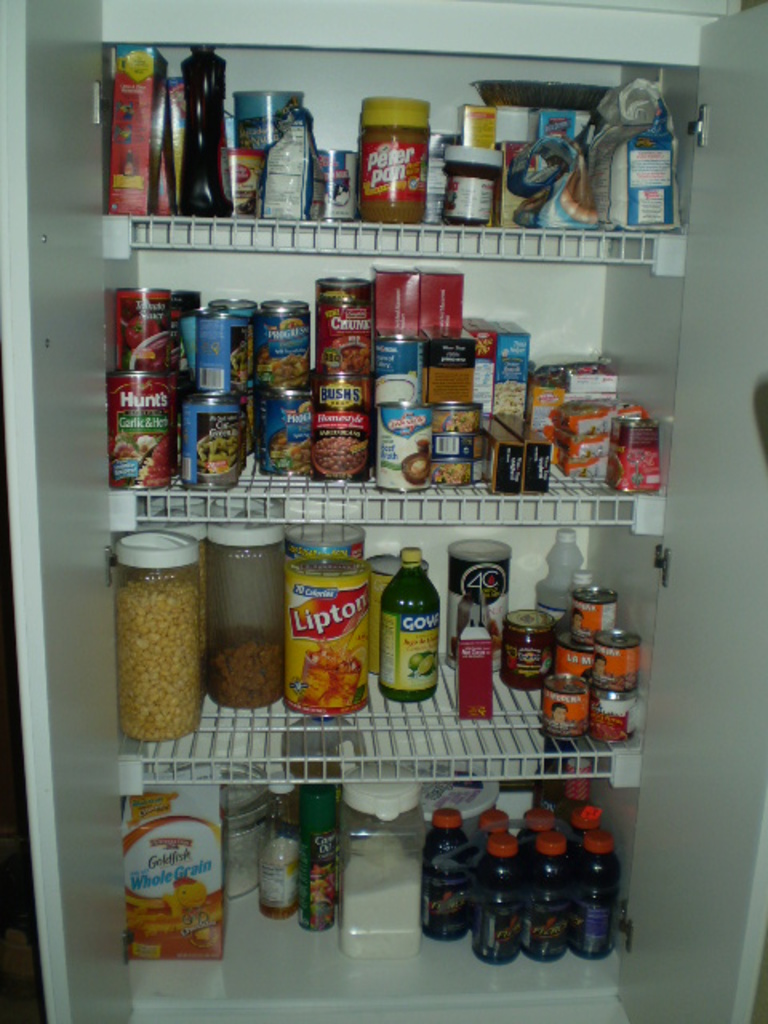Refrigerator: (22, 0, 757, 1010)
